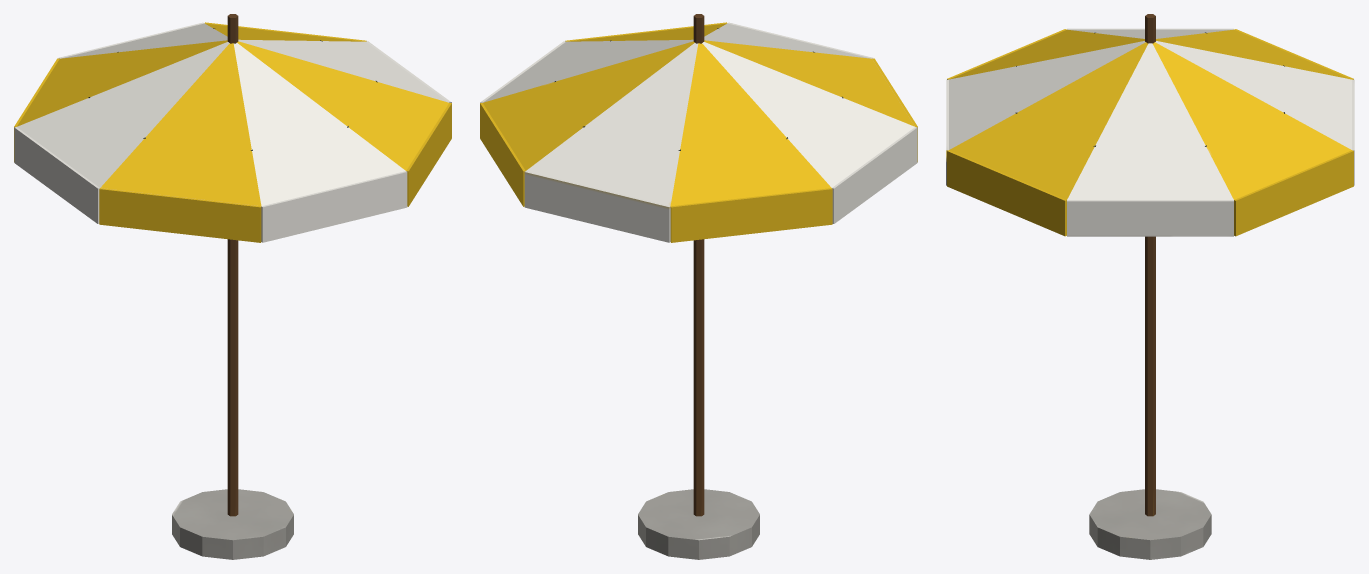
Rendered from slunecnik_161457d6.glb.
3 renders of one model, left to right at view 1: azimuth 30°, elevation 25°; view 2: azimuth 150°, elevation 25°; view 3: azimuth 270°, elevation 25°, orthographic.
Visible parts, largest first — view 1: dum; view 2: dum; view 3: dum.
Boxes of the visible parts, bbox=[...] form: dum: bbox=[14, 14, 451, 559]; dum: bbox=[480, 14, 917, 559]; dum: bbox=[946, 14, 1354, 559].
Size of the model in its own units: 1.87 by 2.61 by 1.87.
Materials: 1 (1 with a texture image).
